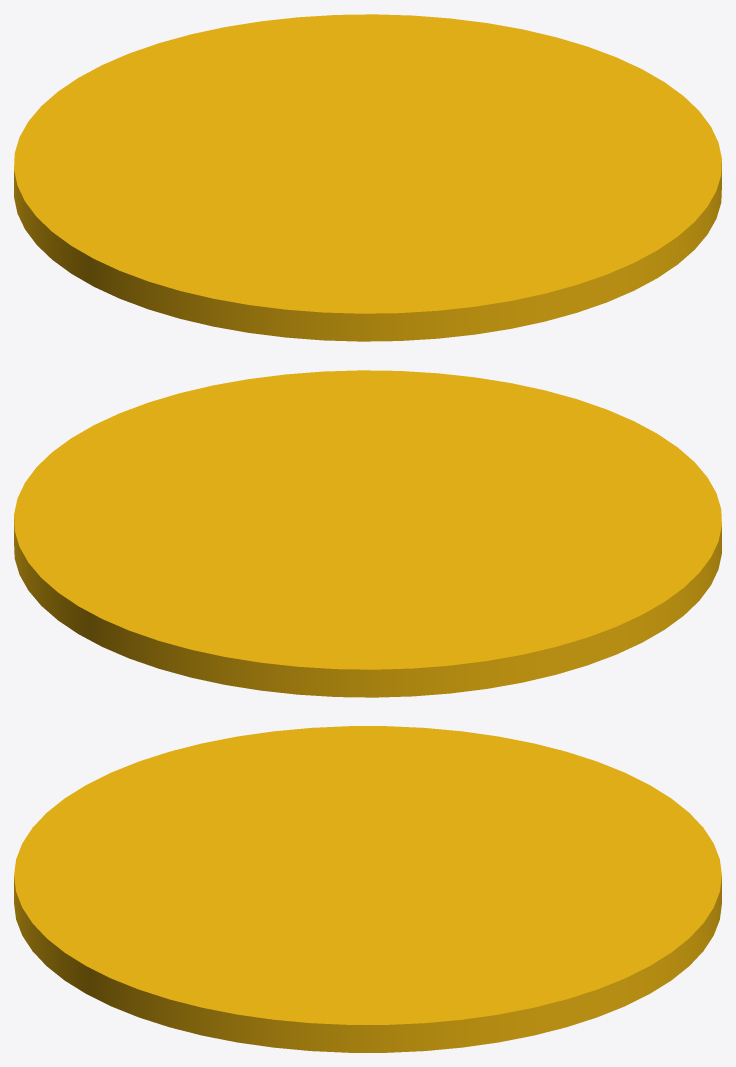
The picture shows the model from 3 angles, top to bottom: view 1: azimuth 30°, elevation 25°; view 2: azimuth 150°, elevation 25°; view 3: azimuth 270°, elevation 25°; orthographic projection.
Parts seen in each view (by area): view 1: root_node; view 2: root_node; view 3: root_node.
Part boxes in pixels (<box>): root_node: <box>14,14,721,341</box>; root_node: <box>14,370,721,697</box>; root_node: <box>14,726,721,1052</box>.
Size of the model in its own units: 0.1148 by 0.005 by 0.115.
